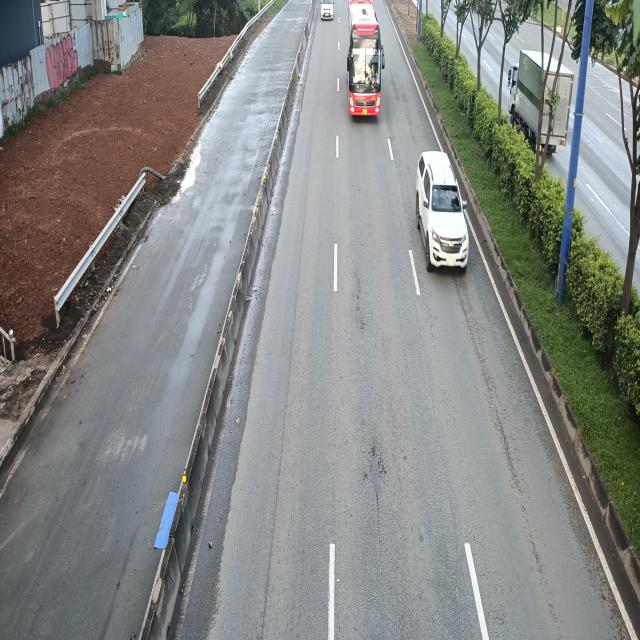car: (414, 151, 466, 272)
coach: (347, 0, 386, 118)
